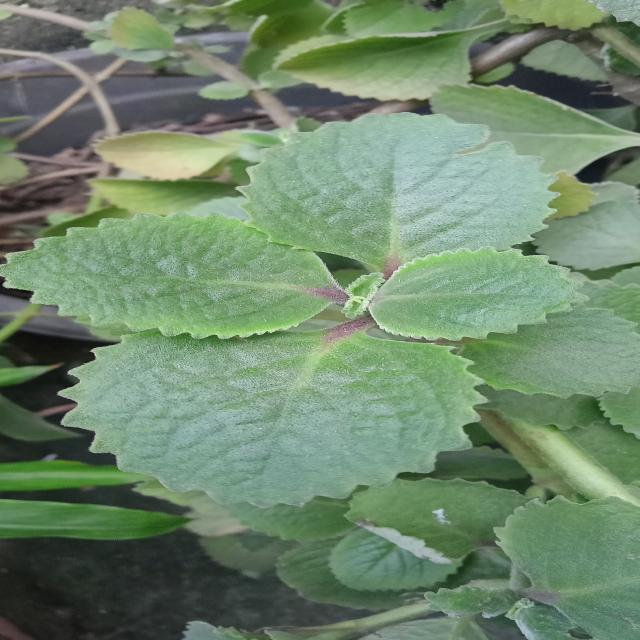Oregano: (59, 129, 599, 509)
